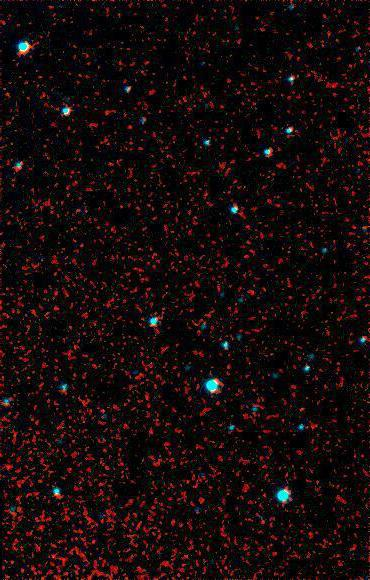star: (281, 393, 311, 423)
